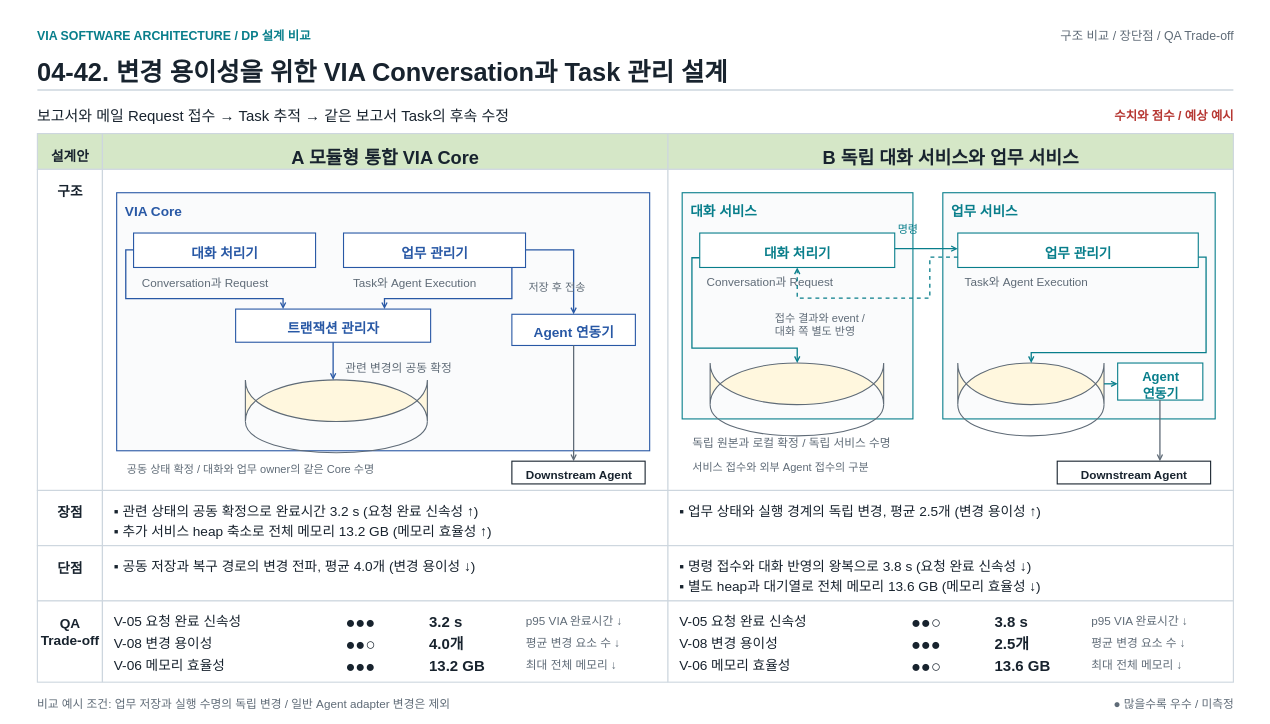
Image size: 1270x724. Some labels were removed from this diagram. The shapes that lost their labels are listed below. From the top down, each one's box as (x1, y1, x2, y2) in pixels, then its label:
(245, 379, 428, 422): 통합 상태 저장소
(709, 362, 884, 405): 대화 상태 저장소
(957, 362, 1104, 405): 업무 상태 저장소
